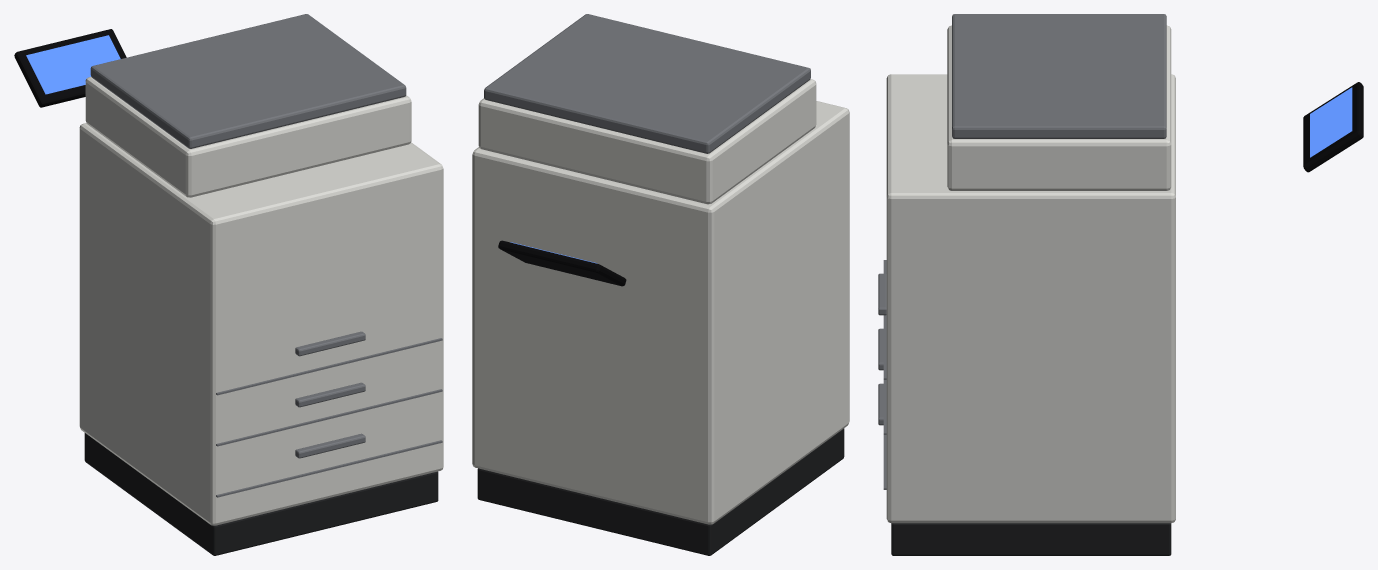
The model's file is tech_copier.glb.
3 views of the same model, side by side, from view 1: azimuth 30°, elevation 25°; view 2: azimuth 150°, elevation 25°; view 3: azimuth 270°, elevation 25° (orthographic). The views are drawn at different scales.
Parts seen in each view (by area): view 1: Copier; view 2: Copier; view 3: Copier.
Part boxes in pixels (x1,y1,x2,y2): Copier: (14, 14, 443, 555); Copier: (472, 14, 849, 555); Copier: (878, 14, 1363, 555).
Size of the model in its own units: 0.62 by 1.01 by 1.04.
